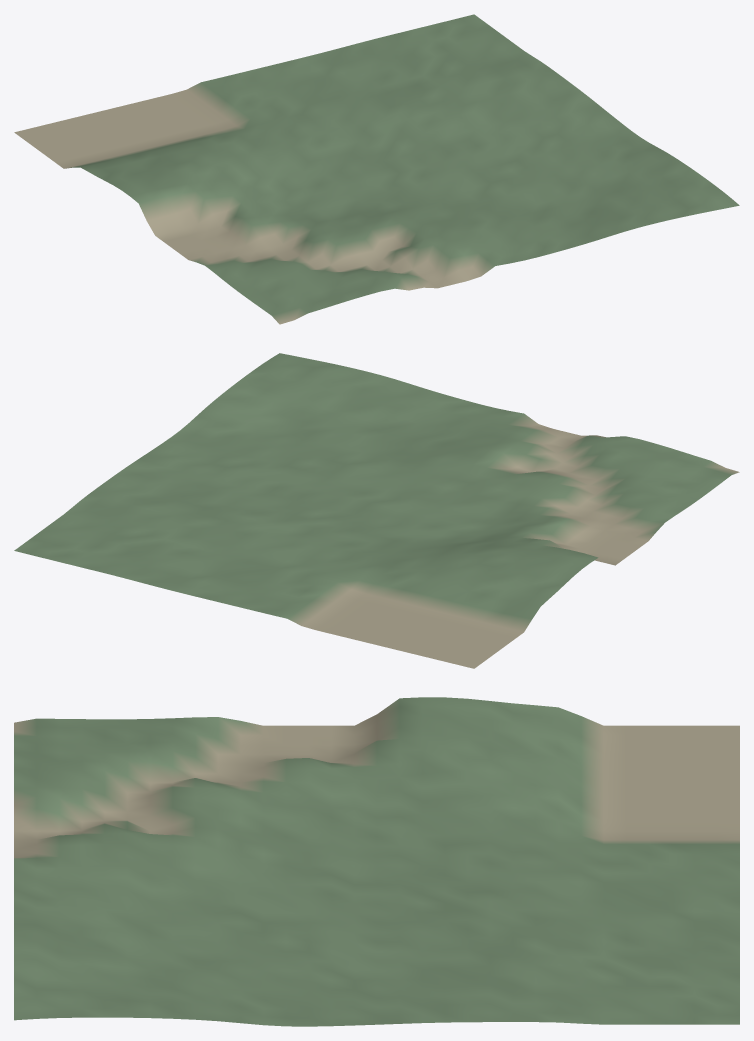
3 renders of one model, top to bottom at view 1: azimuth 30°, elevation 25°; view 2: azimuth 150°, elevation 25°; view 3: azimuth 270°, elevation 25°, orthographic. The views are drawn at different scales.
Parts seen in each view (by area): view 1: Terrain-col; view 2: Terrain-col; view 3: Terrain-col.
Part boxes in pixels (x1,y1,x2,y2): Terrain-col: (14, 14, 739, 324); Terrain-col: (14, 353, 739, 668); Terrain-col: (14, 697, 739, 1026).
Size of the model in its own units: 256 by 11.34 by 256.
